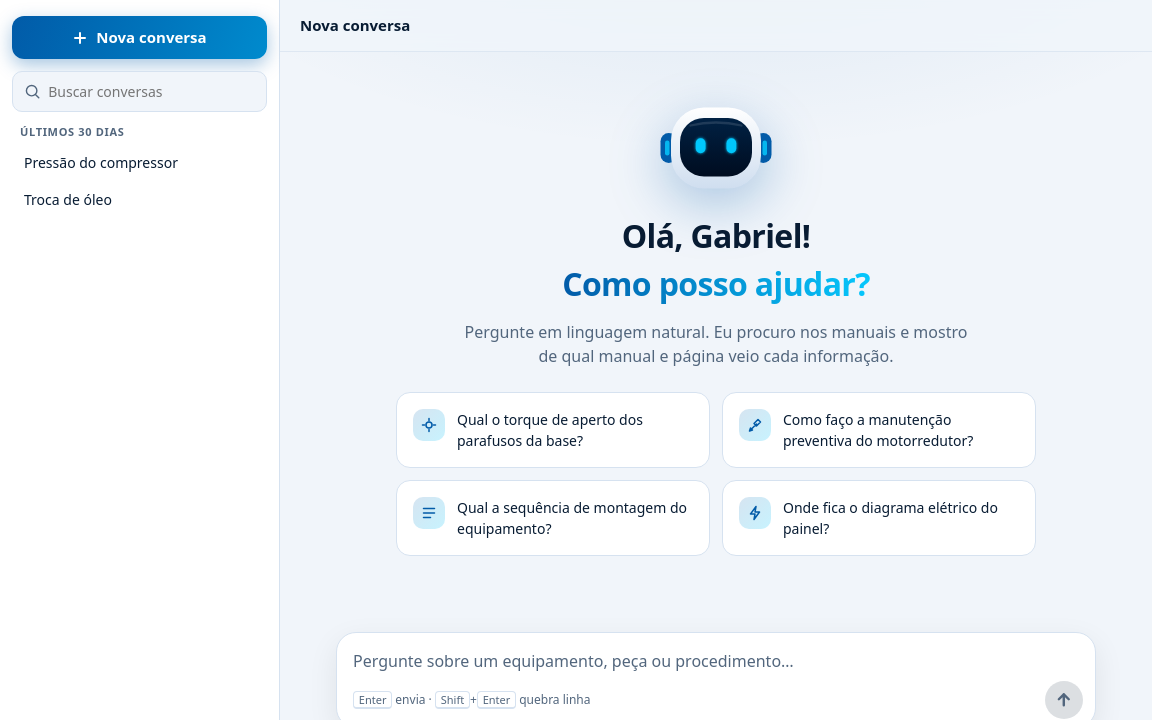
<ChatPage /> › filters the history ignoring accents
Expected: the link "Pressão do compressor" is shown, [24,153,178,172]
In the search field named "Buscar no histórico": (151, 92) [48,72,254,111], type "oleo"
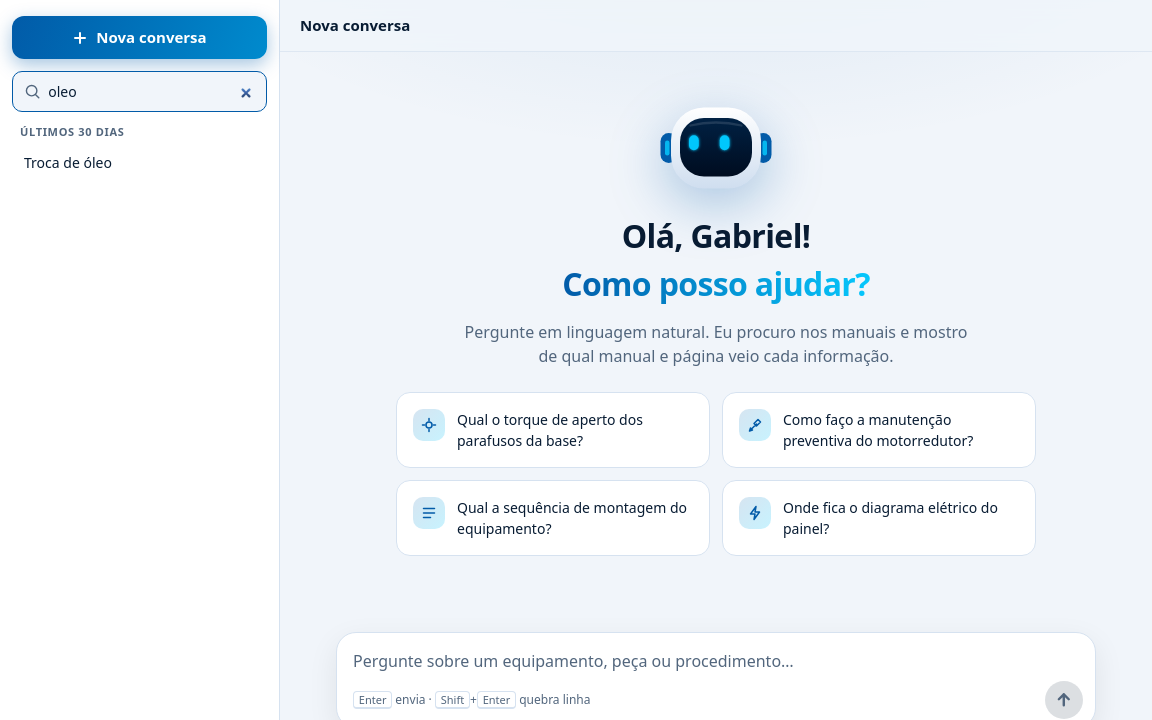
Expected: the link "Troca de óleo" is shown, [24,153,112,172]
Expected: the link "Pressão do compressor" is gone
